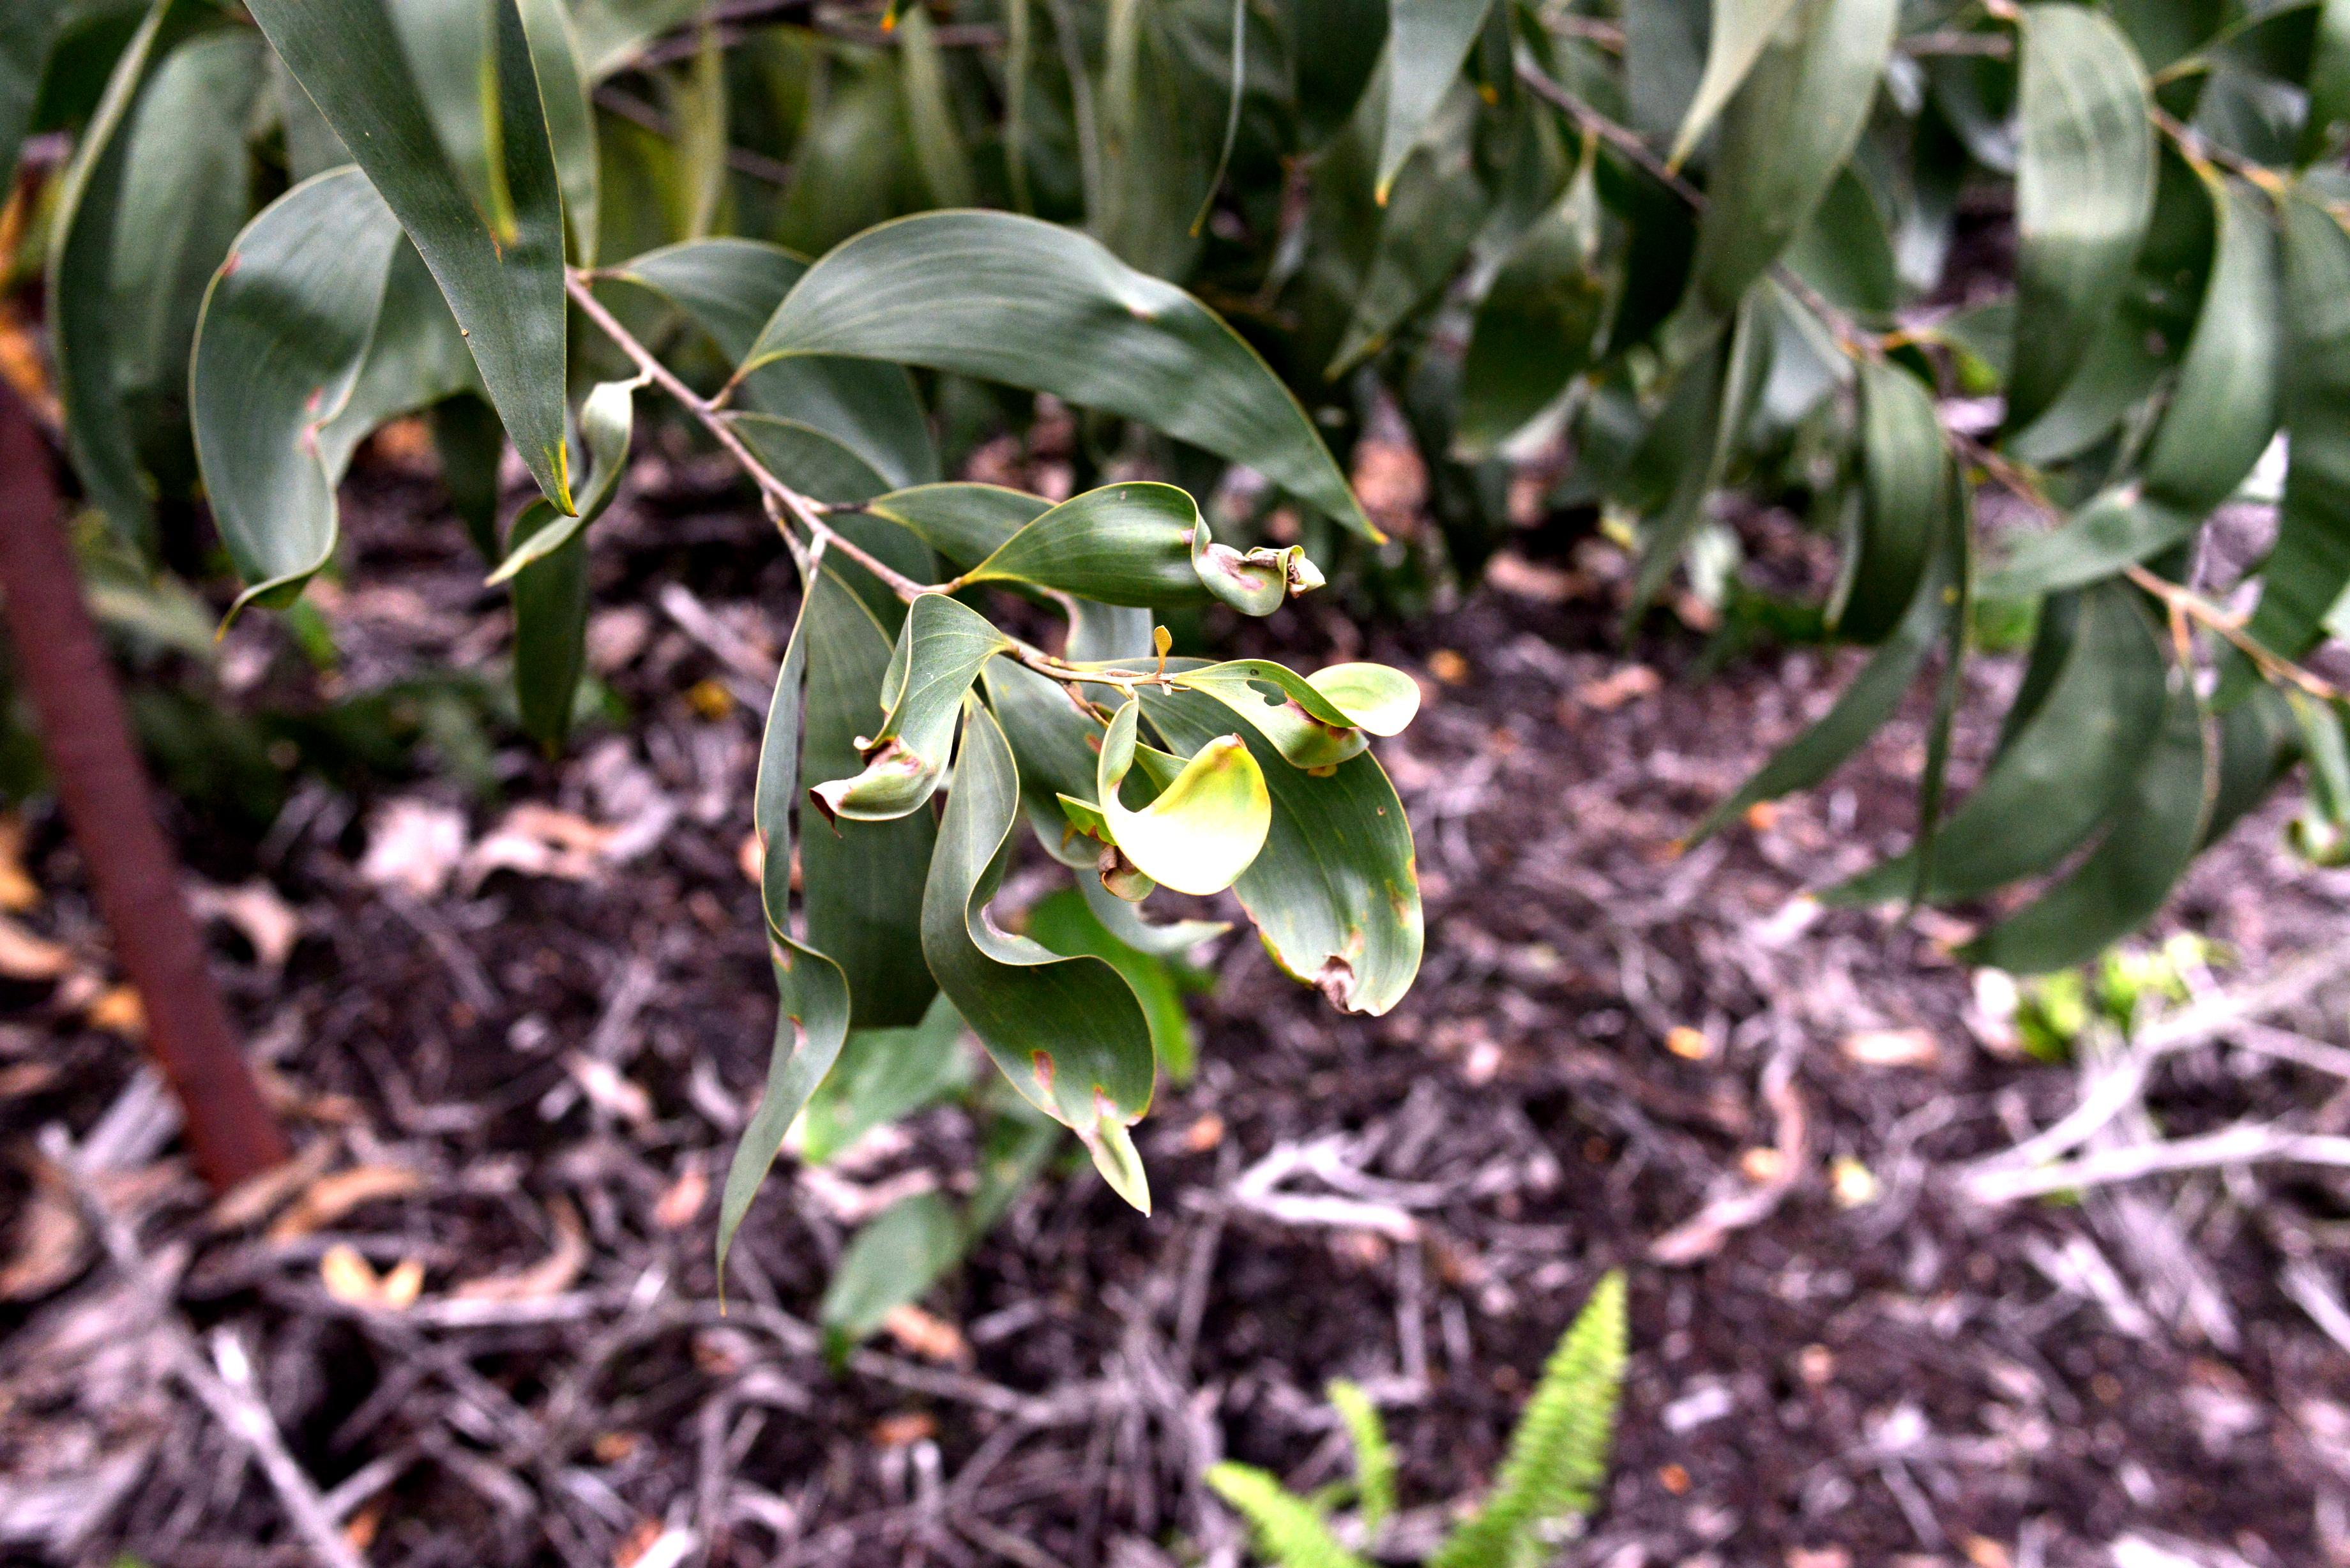Pasalora: (917, 703, 1169, 1216), (1146, 668, 1431, 1018), (945, 437, 1330, 626), (810, 619, 1018, 861), (1052, 689, 1291, 898), (1162, 653, 1440, 777)
